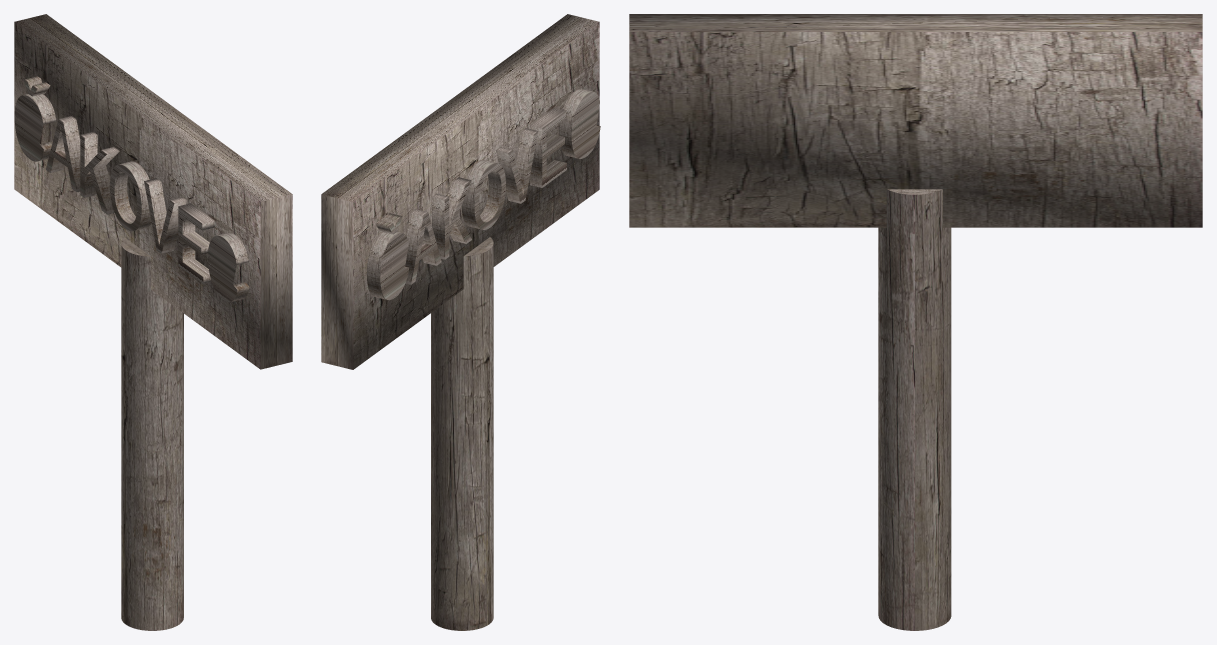
Rendered from tabla.fbx.
3 views of the same model, side by side, from view 1: azimuth 30°, elevation 25°; view 2: azimuth 150°, elevation 25°; view 3: azimuth 270°, elevation 25° (orthographic). The views are drawn at different scales.
Visible parts, largest first — view 1: tabla.2, Cylinder, Extrude NURBS, Cap 2; view 2: tabla.2, Cylinder, Extrude NURBS, Cap 2; view 3: tabla.2, Cylinder.
Boxes of the visible parts, bbox=[...] form: tabla.2: bbox=[14, 14, 292, 369]; Cylinder: bbox=[121, 237, 183, 630]; Extrude NURBS: bbox=[23, 75, 249, 301]; Cap 2: bbox=[14, 79, 237, 302]; tabla.2: bbox=[321, 14, 599, 369]; Cylinder: bbox=[431, 237, 493, 630]; Extrude NURBS: bbox=[366, 89, 600, 299]; Cap 2: bbox=[380, 92, 600, 300]; tabla.2: bbox=[629, 14, 1202, 227]; Cylinder: bbox=[878, 189, 951, 630].
Size of the model in its own units: 9.06 by 79.88 by 70.
Materials: 1 (1 with a texture image).
